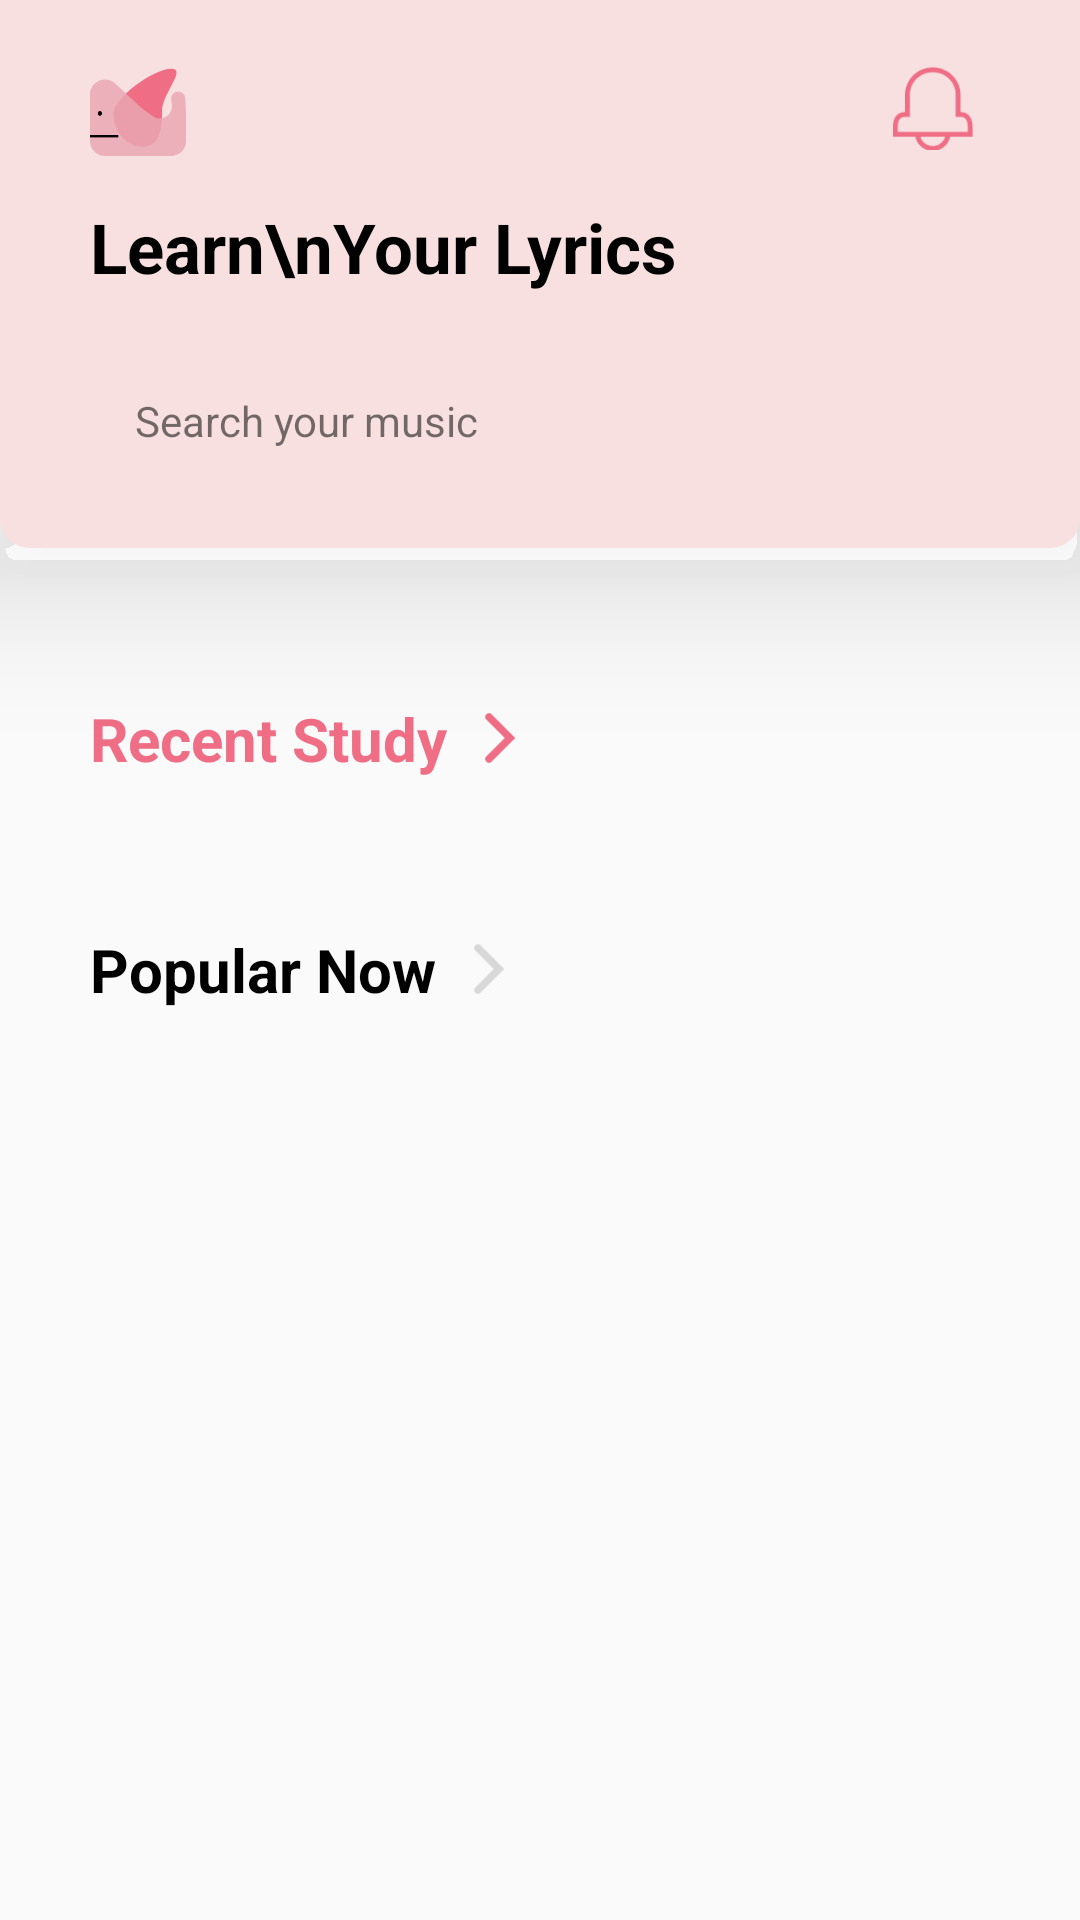

Locate icon controls on the screen. Image size 1080*1920, boxes as (x1, y1, x2, y2).
arrow right: (485, 713, 515, 763), (474, 944, 503, 994)
notice bell: (893, 67, 973, 150)
